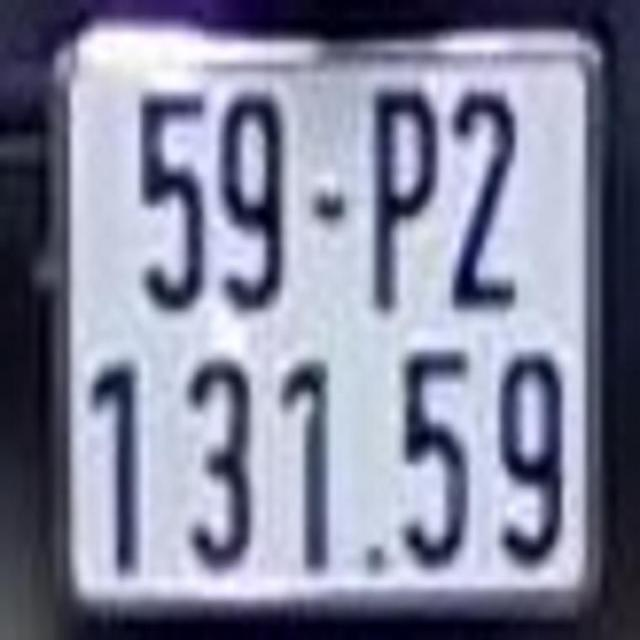1: (280, 366, 340, 566), (94, 366, 150, 578)
2: (452, 96, 518, 301)
3: (184, 366, 252, 566)
5: (138, 93, 204, 310), (400, 353, 468, 560)
9: (498, 350, 561, 566), (220, 100, 278, 308)
P: (367, 97, 435, 306)
